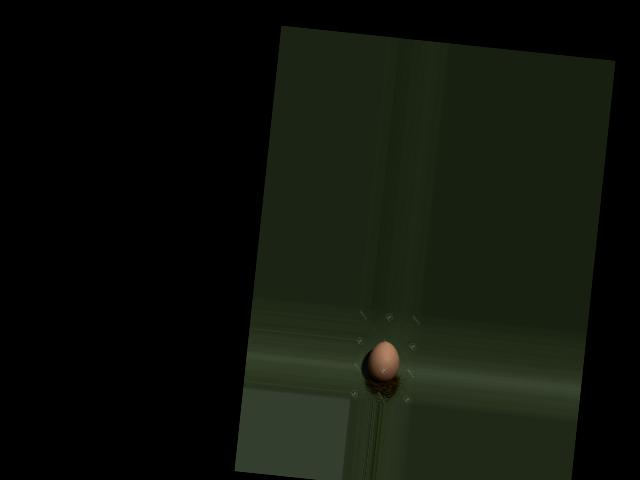egg: (365, 339, 401, 383)
